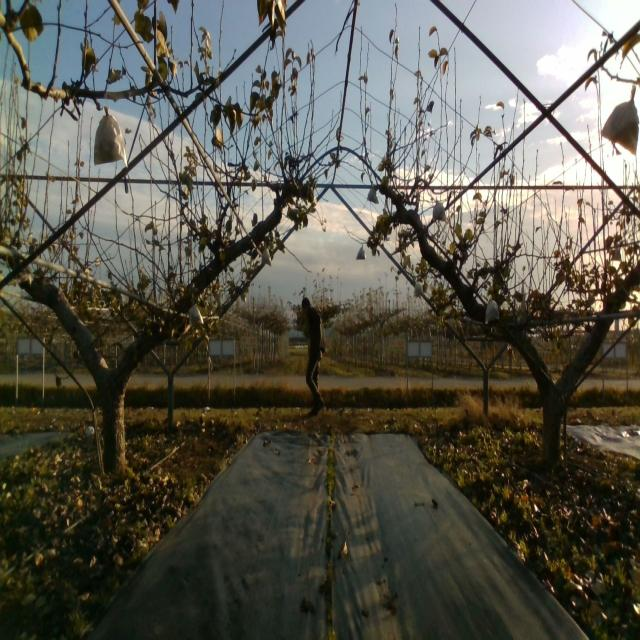pearbags: (299, 294, 325, 420), (601, 84, 639, 155), (94, 109, 128, 166), (484, 293, 499, 326), (432, 198, 449, 222), (188, 302, 204, 327), (367, 187, 379, 205)
